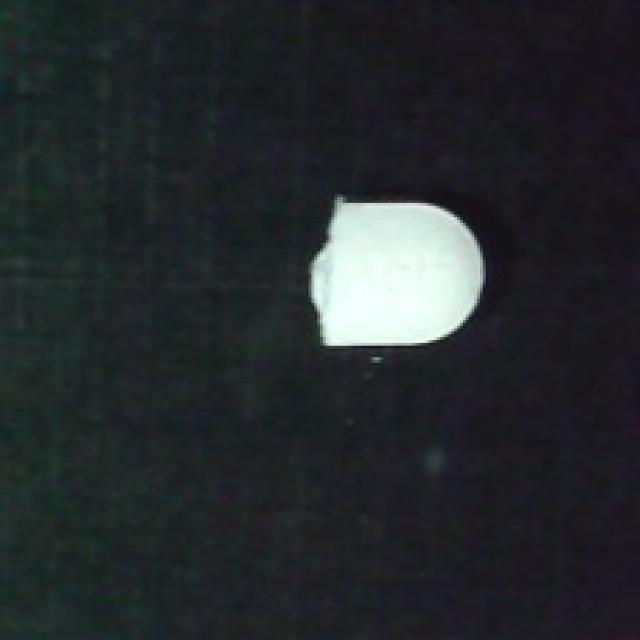defected: (294, 191, 497, 369)
